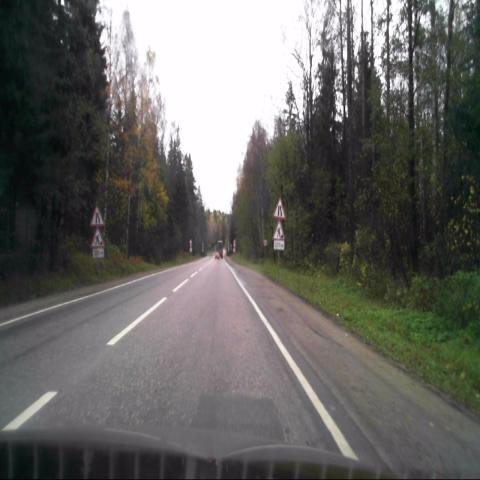1_20_2: (90, 205, 104, 226)
1_25: (91, 228, 104, 248)
